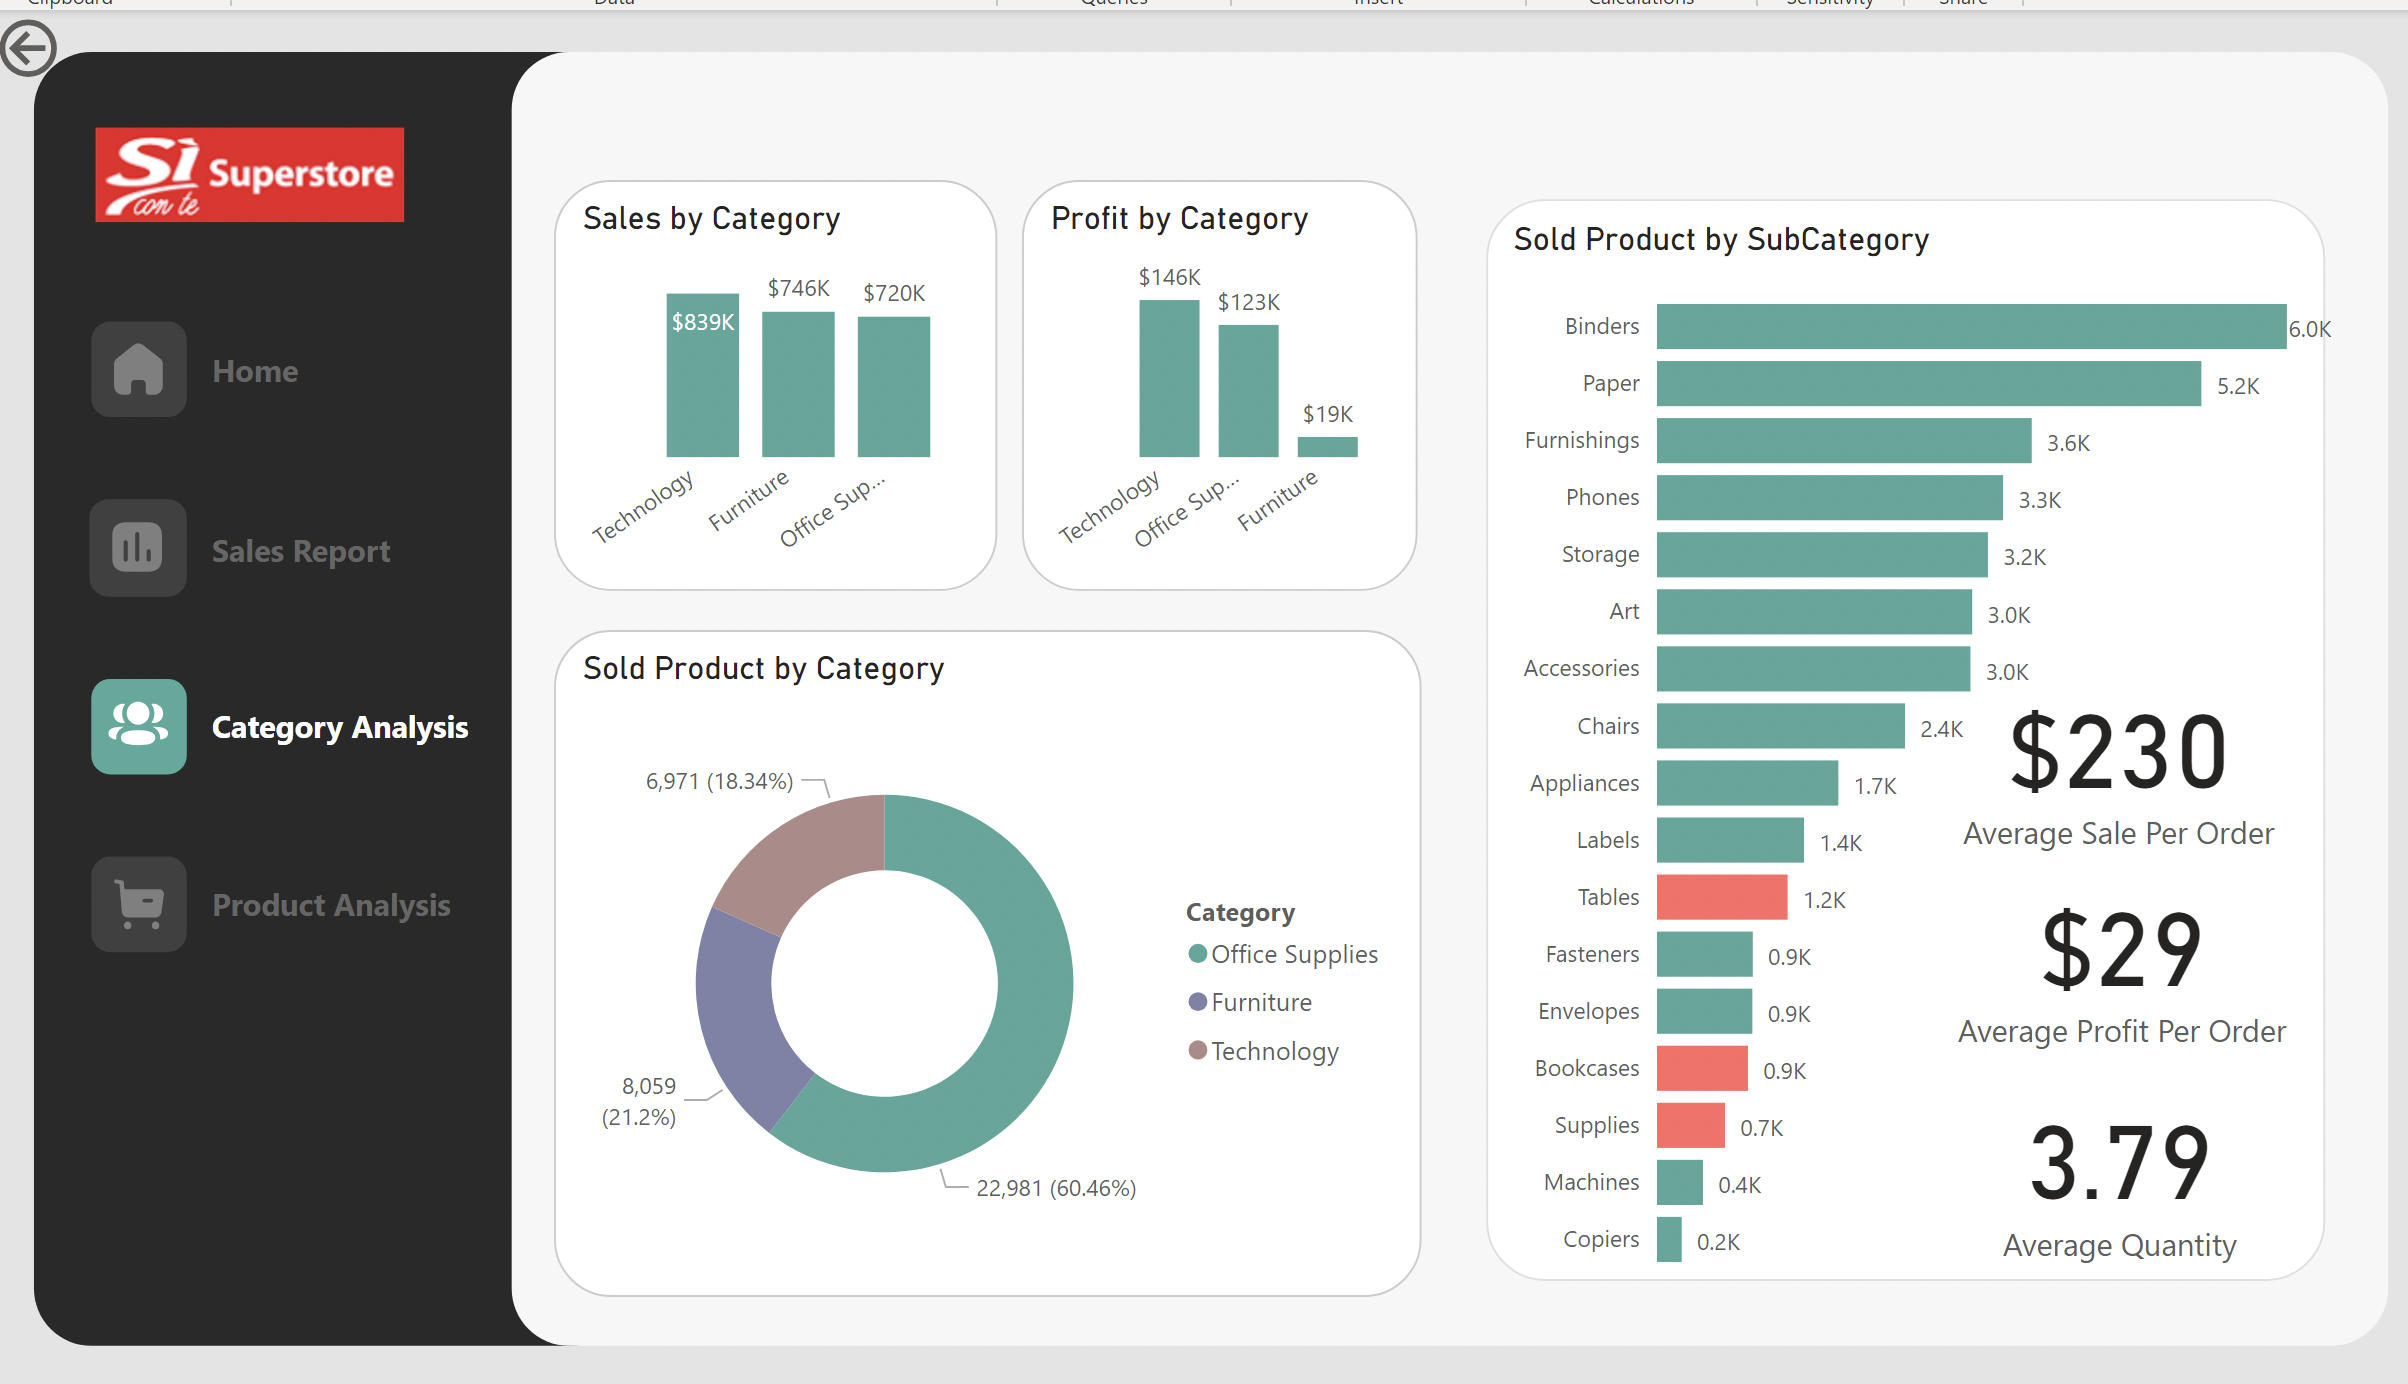

This screenshot's page, from the dashboard's own definition file:
{"tool":"powerbi","page":{"name":"Category Insights","canvas":[1280,720],"ordinal":5},"visuals":[{"type":"card","title":"Sold Products by Category","fields":{"Values":["Min(CategoryDim.Category)"]},"box":[50.3,0,258.3,167.8],"z":0},{"type":"hundredPercentStackedColumnChart","title":"Total Sales and Profit % by Category","fields":{"Category":["CategoryDim.Category"],"Y":["Sum(SalesFact.Sales)","Sum(SalesFact.Profit)"]},"box":[308.7,0,298.6,273.4],"z":1000},{"type":"lineClusteredColumnComboChart","title":"Sold Product by SubCategory","fields":{"Category":["CategoryDim.Sub-Category"],"Y":["Sum(SalesFact.Quantity)"]},"box":[0,274,588,446],"z":2000},{"type":"lineClusteredColumnComboChart","title":"Total Profit and Sales by Sub-Category","fields":{"Category":["CategoryDim.Sub-Category"],"Y2":["Sum(SalesFact.Sales)"],"Y":["Sum(SalesFact.Profit)"]},"box":[588,274,693,445],"z":3000},{"type":"card","fields":{"Values":["Sum(SalesFact.Sales)"]},"box":[597.9,0,231.4,112.2],"z":4000},{"type":"card","fields":{"Values":["Sum(SalesFact.Profit)"]},"box":[828,0,256,112],"z":5000},{"type":"card","fields":{"Values":["Sum(SalesFact.Quantity)"]},"box":[1084,0,196,112],"z":6000},{"type":"card","fields":{"Values":["Avg(SalesFact.Sales)"]},"box":[598,112,240,112],"z":7000},{"type":"card","fields":{"Values":["Avg(SalesFact.Profit)"]},"box":[838,112,256,112],"z":8000},{"type":"card","fields":{"Values":["Avg(SalesFact.Quantity)"]},"box":[1084,112,196,112],"z":9000},{"type":"actionButton","box":[0,0,100,40],"z":10000}]}

Visuals, with their boxes on the page's 1280x720 design canvas (x1, y1, x2, y2). These are canvas units, not pixel positions in the 2408x1384 screenshot, which may show the page scaled, cropped or inside an application window:
"Sold Products by Category" card: l=50, t=0, r=309, b=168
"Total Sales and Profit % by Category" hundredPercentStackedColumnChart: l=309, t=0, r=607, b=273
"Sold Product by SubCategory" lineClusteredColumnComboChart: l=0, t=274, r=588, b=720
"Total Profit and Sales by Sub-Category" lineClusteredColumnComboChart: l=588, t=274, r=1281, b=719
card - Sum(SalesFact.Sales): l=598, t=0, r=829, b=112
card - Sum(SalesFact.Profit): l=828, t=0, r=1084, b=112
card - Sum(SalesFact.Quantity): l=1084, t=0, r=1280, b=112
card - Avg(SalesFact.Sales): l=598, t=112, r=838, b=224
card - Avg(SalesFact.Profit): l=838, t=112, r=1094, b=224
card - Avg(SalesFact.Quantity): l=1084, t=112, r=1280, b=224
actionButton: l=0, t=0, r=100, b=40
